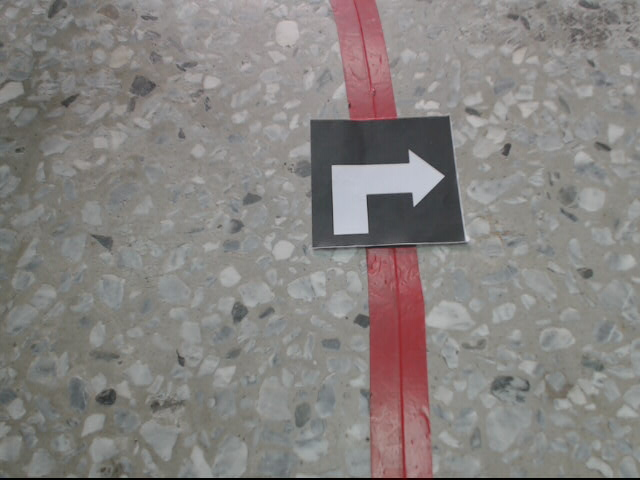right: (308, 117, 470, 251)
